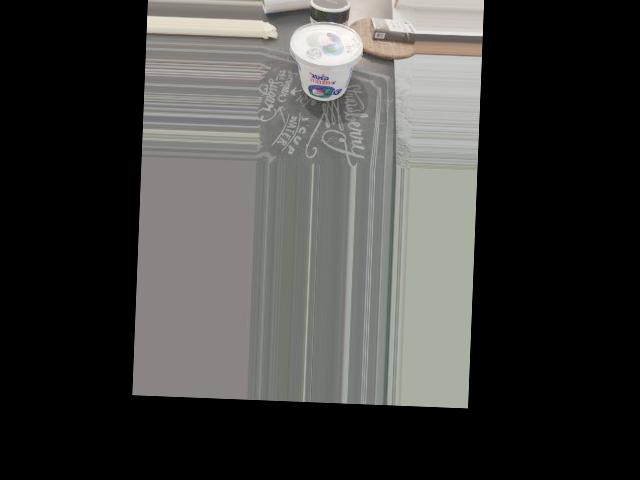cotage: (287, 19, 360, 106)
